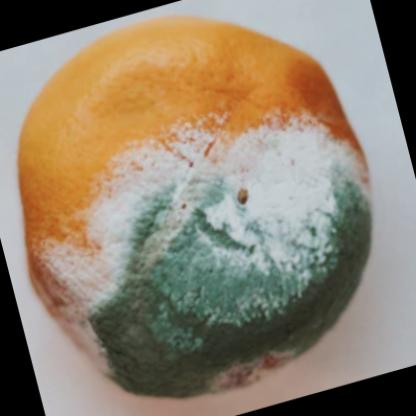rotten: (18, 17, 373, 403)
